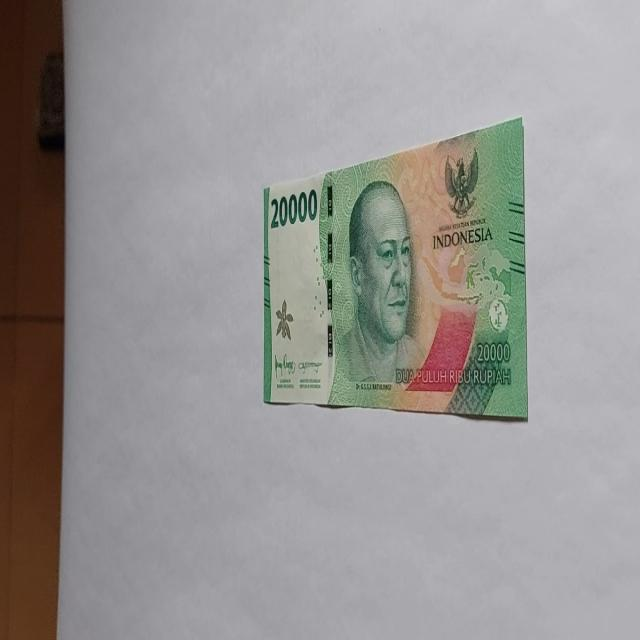dua puluh ribu rupiah: (262, 116, 528, 420), (328, 178, 427, 406)
